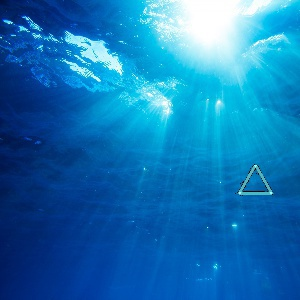triangle: (232, 162, 275, 198)
